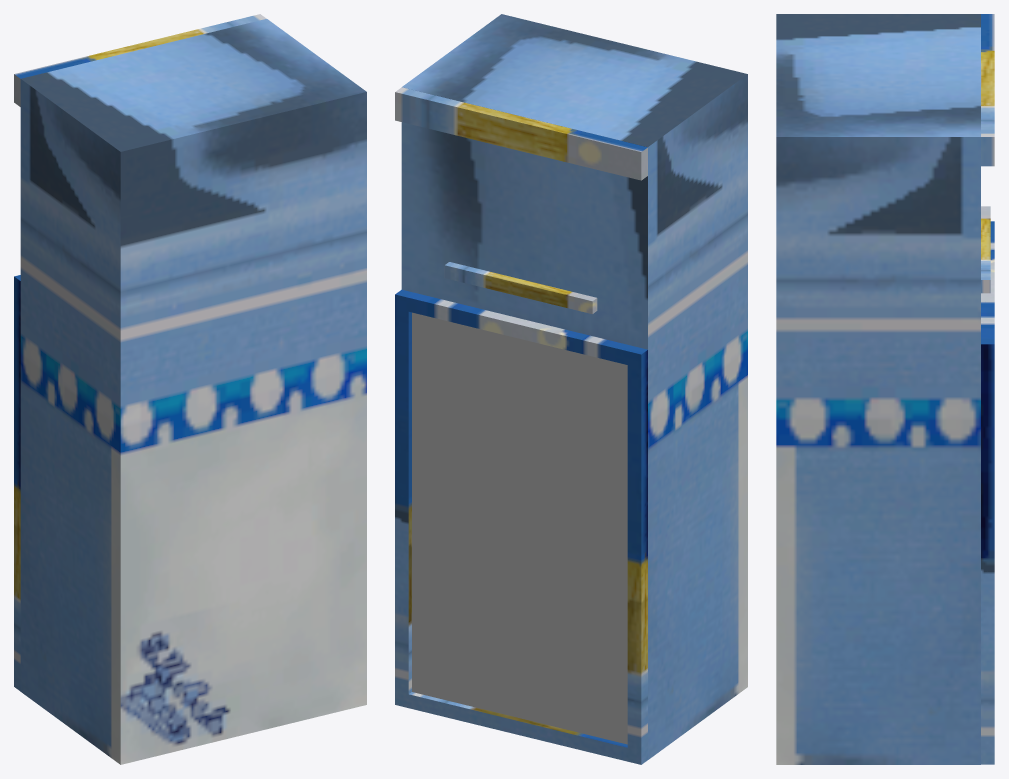
The model's file is furni_0200518.FBX.
3 views of the same model, side by side, from view 1: azimuth 30°, elevation 25°; view 2: azimuth 150°, elevation 25°; view 3: azimuth 270°, elevation 25° (orthographic). The views are drawn at different scales.
Parts seen in each view (by area): view 1: furni_0200518; view 2: furni_0200518; view 3: furni_0200518.
Boxes of the visible parts, x1,y1,x2,y2 form: furni_0200518: (14, 14, 366, 764); furni_0200518: (395, 14, 747, 764); furni_0200518: (776, 14, 994, 764).
Bounding box in the file's own units: 80.03 × 190 × 59.95.
